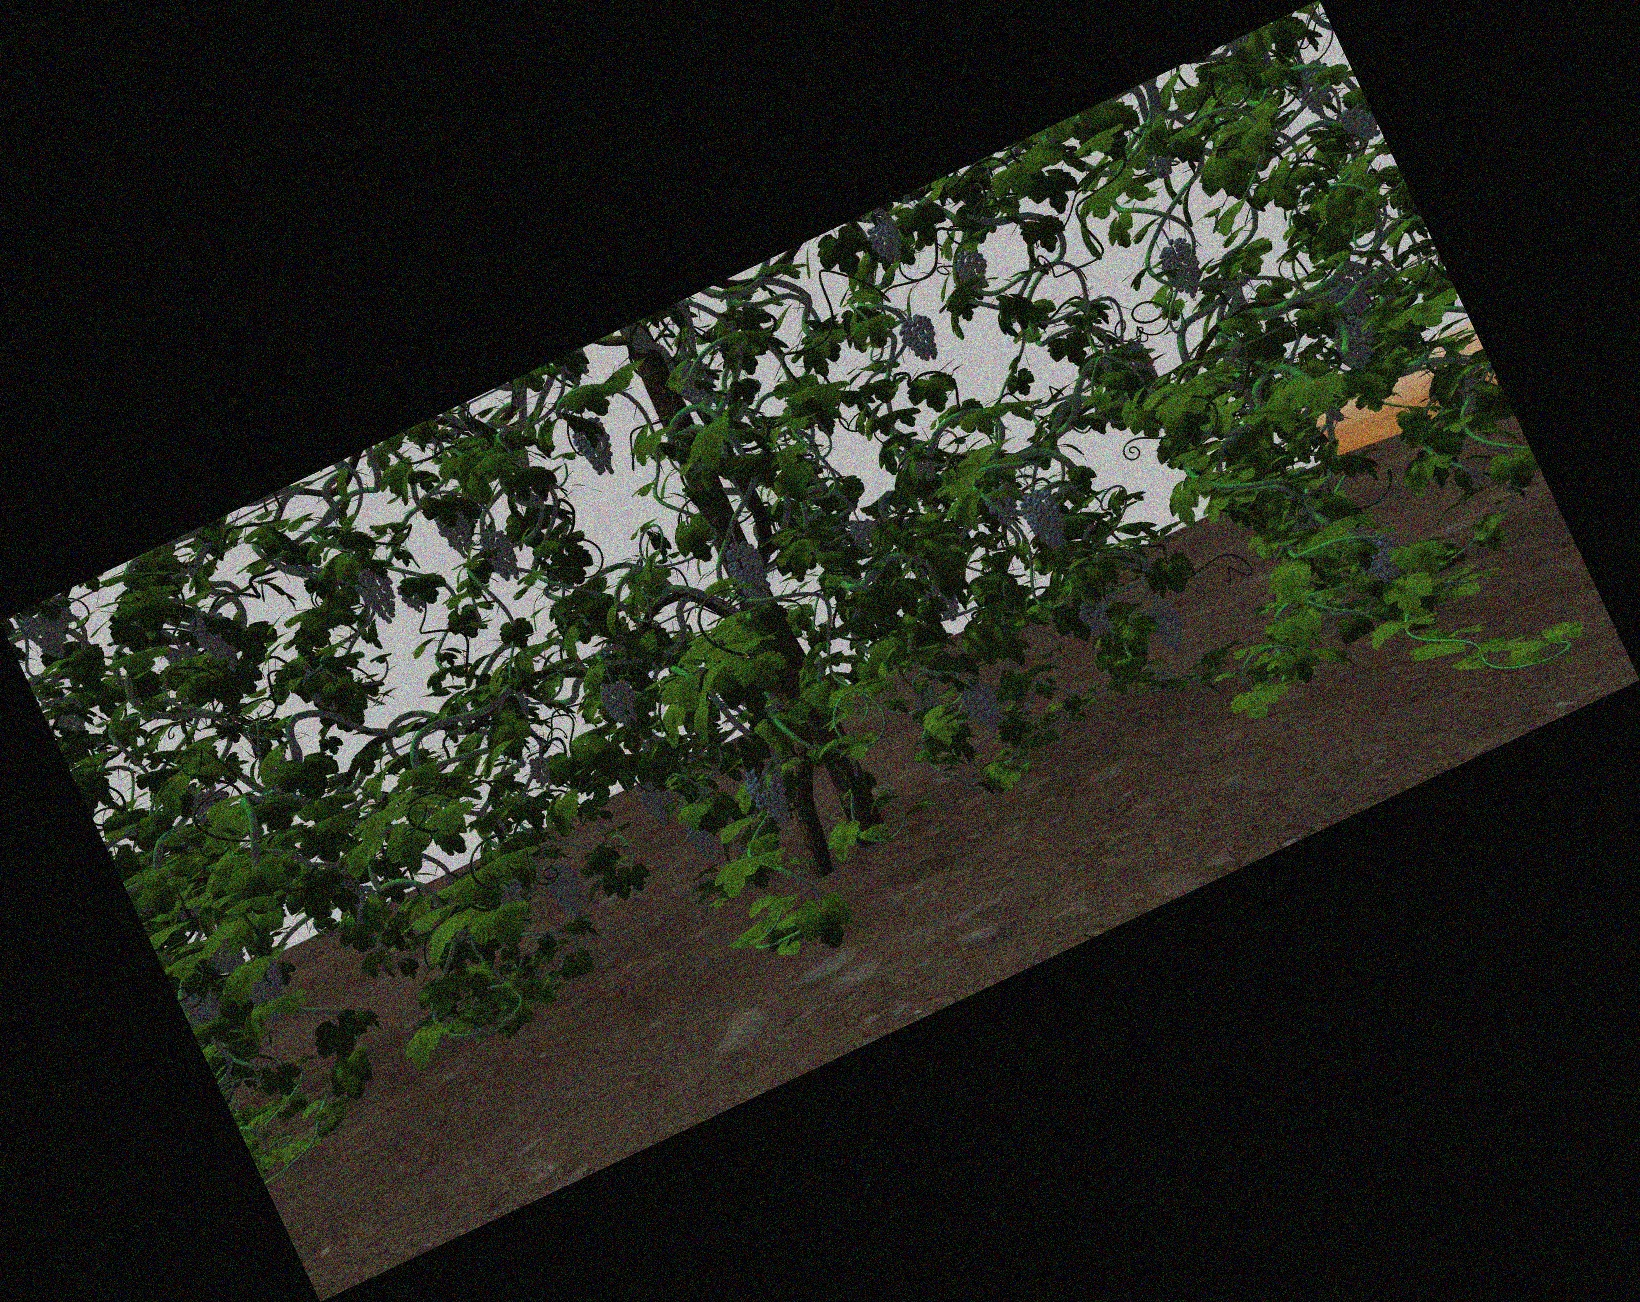grape: (31, 607, 77, 658), (1163, 240, 1202, 298), (752, 765, 788, 827), (732, 541, 765, 602), (201, 611, 234, 672), (1028, 491, 1062, 550), (576, 421, 612, 477), (361, 566, 395, 620), (551, 864, 584, 920), (1366, 537, 1400, 583), (966, 686, 1001, 732), (1336, 320, 1374, 362), (485, 531, 515, 582), (441, 509, 471, 559), (904, 316, 937, 361), (1153, 602, 1183, 650), (246, 967, 286, 1002), (606, 682, 636, 727), (643, 781, 672, 828), (872, 221, 903, 264), (1082, 599, 1112, 639), (1332, 280, 1364, 314), (188, 993, 221, 1025), (1343, 108, 1372, 141), (958, 254, 988, 288), (690, 824, 714, 861), (528, 755, 556, 784), (852, 519, 879, 548), (1146, 157, 1173, 180)
